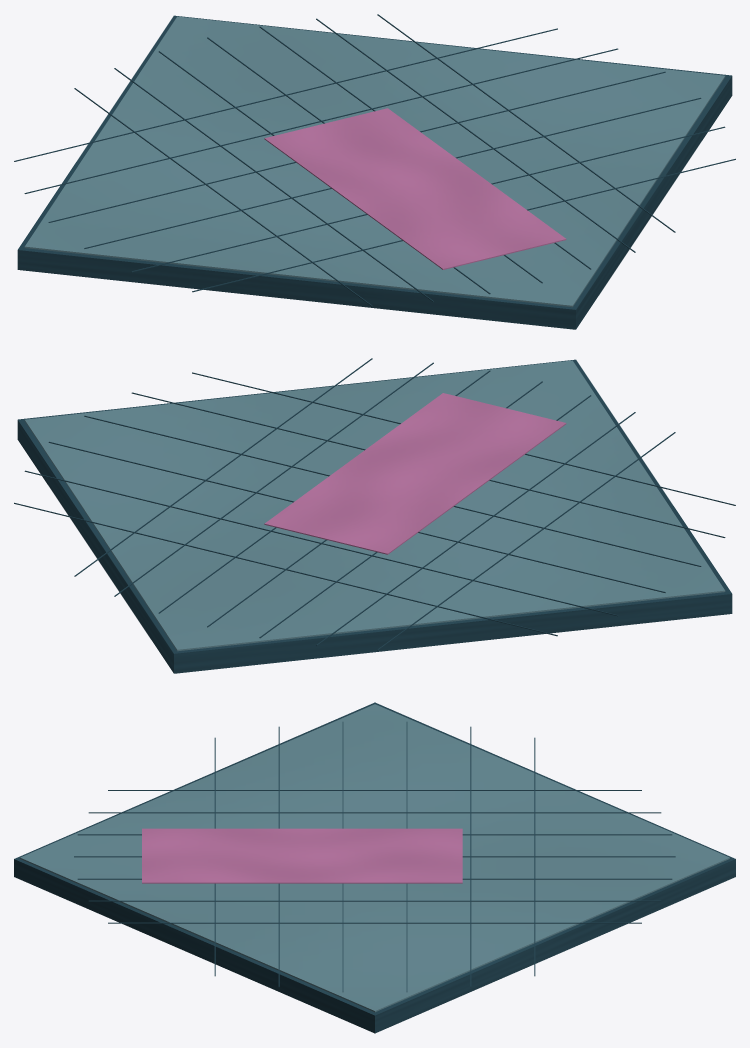
The model's file is atlas100-s063-a07.lod2.glb.
3 renders of one model, top to bottom at view 1: azimuth 30°, elevation 25°; view 2: azimuth 150°, elevation 25°; view 3: azimuth 270°, elevation 25°, orthographic. The views are drawn at different scales.
Parts seen in each view (by area): view 1: atlas100-s063-a07:part-001, atlas100-s063-a07:part-021, atlas100-s063-a07:part-000, atlas100-s063-a07:part-015, atlas100-s063-a07:part-014, atlas100-s063-a07:part-017, atlas100-s063-a07:part-016, atlas100-s063-a07:part-018, atlas100-s063-a07:part-019, atlas100-s063-a07:part-009, atlas100-s063-a07:part-005, atlas100-s063-a07:part-004 (+1 smaller); view 2: atlas100-s063-a07:part-001, atlas100-s063-a07:part-021, atlas100-s063-a07:part-000, atlas100-s063-a07:part-015, atlas100-s063-a07:part-014, atlas100-s063-a07:part-016, atlas100-s063-a07:part-017, atlas100-s063-a07:part-018, atlas100-s063-a07:part-019, atlas100-s063-a07:part-009, atlas100-s063-a07:part-005, atlas100-s063-a07:part-004 (+1 smaller); view 3: atlas100-s063-a07:part-001, atlas100-s063-a07:part-021, atlas100-s063-a07:part-000, atlas100-s063-a07:part-005, atlas100-s063-a07:part-009, atlas100-s063-a07:part-010, atlas100-s063-a07:part-007, atlas100-s063-a07:part-006, atlas100-s063-a07:part-008.
Part boxes in pixels (x1,y1,x2,y2): atlas100-s063-a07:part-001: (24,16,725,307); atlas100-s063-a07:part-021: (264,108,566,269); atlas100-s063-a07:part-000: (17,15,732,329); atlas100-s063-a07:part-015: (24,48,618,193); atlas100-s063-a07:part-014: (14,28,557,161); atlas100-s063-a07:part-017: (84,97,701,248); atlas100-s063-a07:part-016: (48,71,665,222); atlas100-s063-a07:part-018: (131,126,725,272); atlas100-s063-a07:part-019: (192,158,735,292); atlas100-s063-a07:part-009: (316,18,635,252); atlas100-s063-a07:part-005: (114,68,433,301); atlas100-s063-a07:part-004: (74,88,372,306); atlas100-s063-a07:part-001: (24,360,725,651); atlas100-s063-a07:part-021: (264,393,566,554); atlas100-s063-a07:part-000: (17,359,732,673); atlas100-s063-a07:part-015: (24,470,618,616); atlas100-s063-a07:part-014: (14,502,557,636); atlas100-s063-a07:part-016: (48,441,665,592); atlas100-s063-a07:part-017: (84,415,701,566); atlas100-s063-a07:part-018: (131,392,725,537); atlas100-s063-a07:part-019: (192,372,735,505); atlas100-s063-a07:part-009: (114,362,433,596); atlas100-s063-a07:part-005: (316,412,635,645); atlas100-s063-a07:part-004: (377,432,675,650); atlas100-s063-a07:part-001: (20,704,729,1012); atlas100-s063-a07:part-021: (142,828,462,883); atlas100-s063-a07:part-000: (14,702,735,1033); atlas100-s063-a07:part-005: (88,812,661,813); atlas100-s063-a07:part-009: (88,900,661,901); atlas100-s063-a07:part-010: (108,922,641,923); atlas100-s063-a07:part-007: (74,856,675,857); atlas100-s063-a07:part-006: (77,834,672,835); atlas100-s063-a07:part-008: (77,878,672,879).
Bounding box in the file's own units: 12.75 × 0.404 × 12.42.
Materials: 3 (3 with a texture image).
